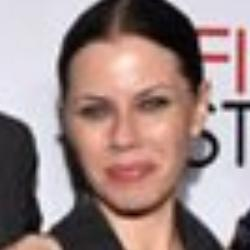face: (37, 2, 218, 217)
